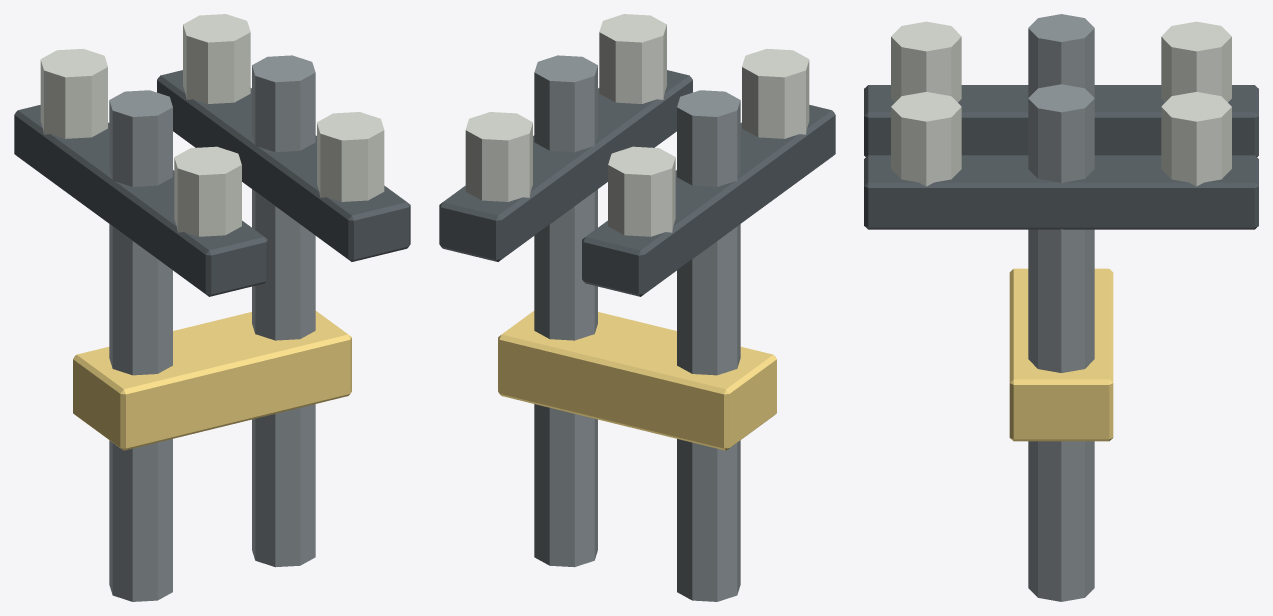
The model's file is pole-bundle.glb.
The picture shows the model from 3 angles, left to right: view 1: azimuth 30°, elevation 25°; view 2: azimuth 150°, elevation 25°; view 3: azimuth 270°, elevation 25°; orthographic projection.
Parts seen in each view (by area): view 1: pole-bundle / Machined steel, pole-bundle / Graphite enamel, pole-bundle / Gold markings and contacts, pole-bundle / Ivory polymer; view 2: pole-bundle / Machined steel, pole-bundle / Graphite enamel, pole-bundle / Gold markings and contacts, pole-bundle / Ivory polymer; view 3: pole-bundle / Graphite enamel, pole-bundle / Machined steel, pole-bundle / Ivory polymer, pole-bundle / Gold markings and contacts.
Boxes of the visible parts, left/top/right/bottom form: pole-bundle / Machined steel: left=109, top=55, right=315, bottom=601; pole-bundle / Graphite enamel: left=14, top=70, right=410, bottom=296; pole-bundle / Gold markings and contacts: left=73, top=311, right=351, bottom=450; pole-bundle / Ivory polymer: left=40, top=14, right=384, bottom=236; pole-bundle / Machined steel: left=534, top=55, right=740, bottom=601; pole-bundle / Graphite enamel: left=439, top=70, right=835, bottom=296; pole-bundle / Gold markings and contacts: left=498, top=311, right=776, bottom=450; pole-bundle / Ivory polymer: left=465, top=14, right=809, bottom=236; pole-bundle / Graphite enamel: left=864, top=85, right=1258, bottom=229; pole-bundle / Machined steel: left=1028, top=14, right=1094, bottom=601; pole-bundle / Ivory polymer: left=891, top=21, right=1231, bottom=186; pole-bundle / Gold markings and contacts: left=1009, top=268, right=1113, bottom=441.
Size of the model in its own units: 0.13 by 0.26 by 0.19.
